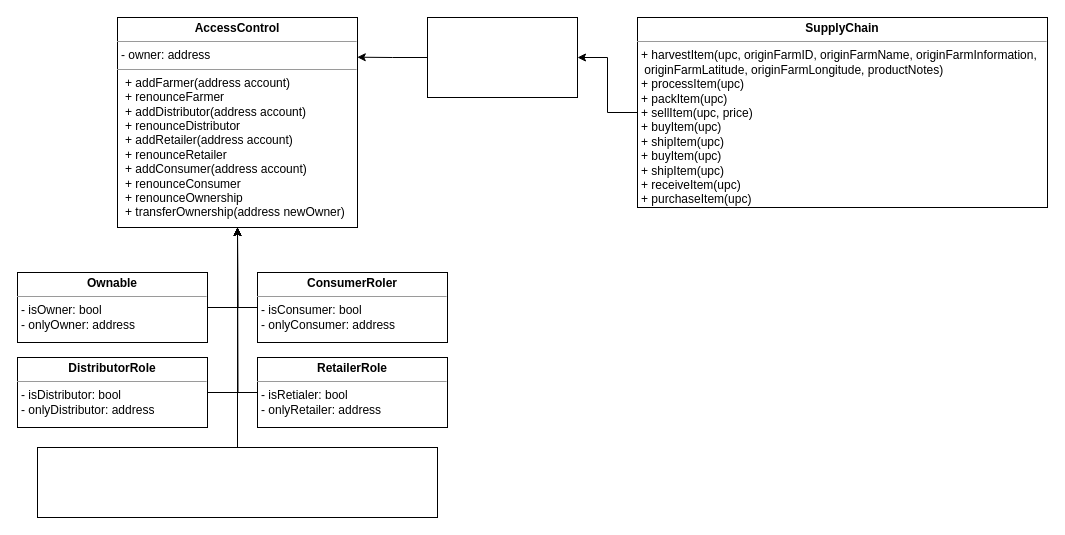
This 1065x535 diagram has some shape labels left out. The shapes that lost their labels are listed below. From the top down, each one's centre as x and y in pixels, then its label:
At point (502, 57): "SupplyChainBase - upc: uint - sku: uint - Item: struct".
At point (237, 482): "FarmerRole - isFarmer: bool - onlyFarmer: address".
